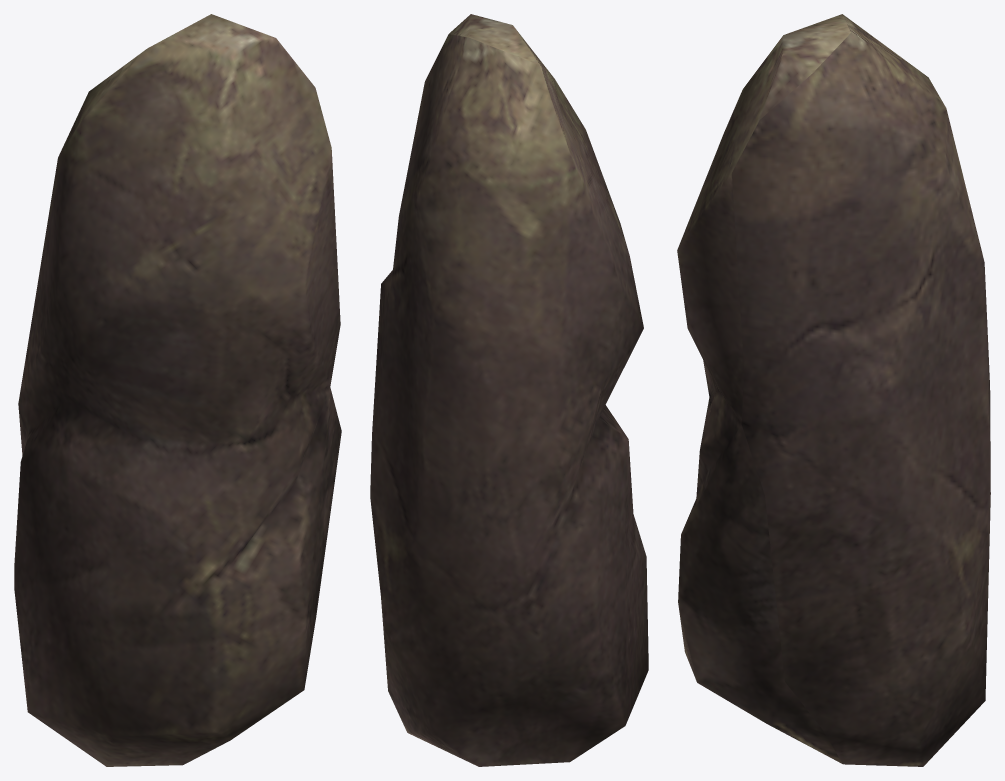
Rendered from stone_006.FBX.
3 views of the same model, side by side, from view 1: azimuth 30°, elevation 25°; view 2: azimuth 150°, elevation 25°; view 3: azimuth 270°, elevation 25° (orthographic). The views are drawn at different scales.
Parts seen in each view (by area): view 1: stone_006_01; view 2: stone_006_01; view 3: stone_006_01.
Boxes of the visible parts, box(x1,y1,x2,y2) form: stone_006_01: box(14, 14, 341, 766); stone_006_01: box(370, 14, 648, 766); stone_006_01: box(677, 14, 990, 766).
Bounding box in the file's own units: 0.8541 × 2.23 × 0.867.
